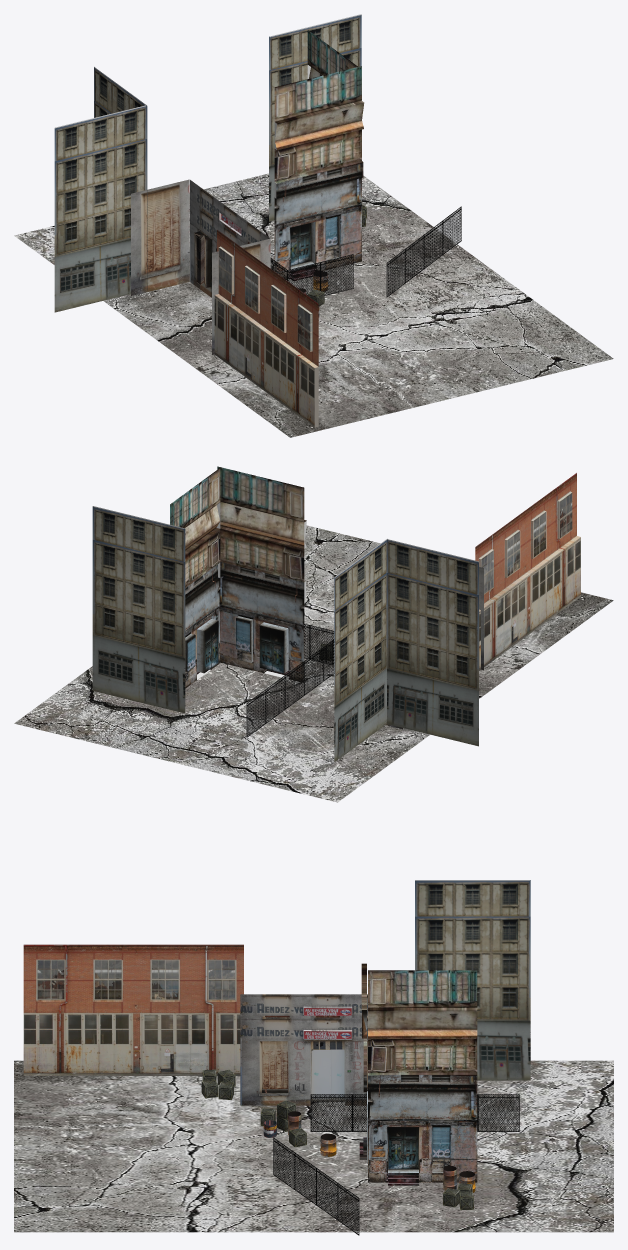
Rendered from low_poly_street_gameready_6.glb.
3 views of the same model, one above another, from view 1: azimuth 30°, elevation 25°; view 2: azimuth 150°, elevation 25°; view 3: azimuth 270°, elevation 25° (orthographic). The views are drawn at different scales.
Parts seen in each view (by area): view 1: Plane, Plane.003, object 27, object 24, Plane.001, object 25, object 23, object 21, object 26, Plane.002; view 2: Plane, object 25, object 27, Plane.003, object 24, object 26, Plane.002, object 22, object 21; view 3: Plane, object 24, Plane.002, object 26, Plane.001, object 22, object 23, Plane.003.
Part boxes in pixels (x1,y1,x2,y2): Plane: [14, 173, 613, 437]; Plane.003: [274, 66, 364, 281]; object 27: [54, 105, 146, 312]; object 24: [214, 229, 318, 427]; Plane.001: [131, 179, 270, 354]; object 25: [269, 14, 361, 221]; object 23: [386, 206, 461, 297]; object 21: [287, 254, 353, 295]; object 26: [94, 67, 147, 290]; Plane.002: [307, 30, 357, 78]; Plane: [14, 525, 613, 802]; object 25: [92, 506, 185, 713]; object 27: [387, 539, 478, 746]; Plane.003: [217, 466, 306, 682]; object 24: [475, 473, 580, 670]; object 26: [334, 538, 387, 761]; Plane.002: [170, 468, 220, 688]; object 22: [246, 639, 334, 737]; object 21: [304, 624, 334, 665]; Plane: [14, 1060, 613, 1232]; object 24: [23, 944, 243, 1075]; Plane.002: [368, 970, 477, 1185]; object 26: [415, 880, 530, 1080]; Plane.001: [240, 994, 367, 1105]; object 22: [310, 1094, 519, 1131]; object 23: [273, 1137, 359, 1235]; Plane.003: [359, 963, 367, 1163].
Bounding box in the file's own units: 12.2 × 6.04 × 15.34.
Materials: 3 (3 with a texture image).
